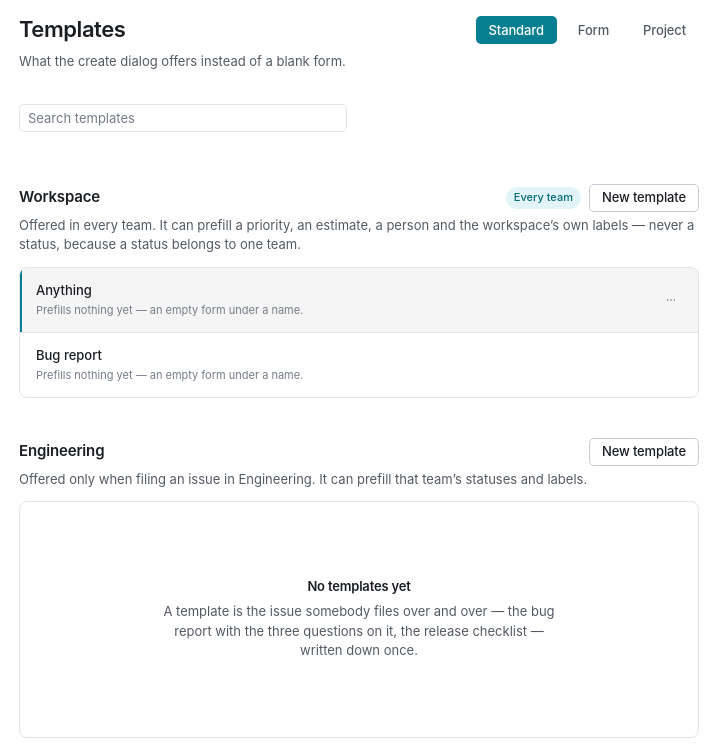
Templates on the settings frame › narrows the rows to what the search box matches
Type "bug" into the search field labelled "Search templates" at (183, 118), box [28,104,338,130]
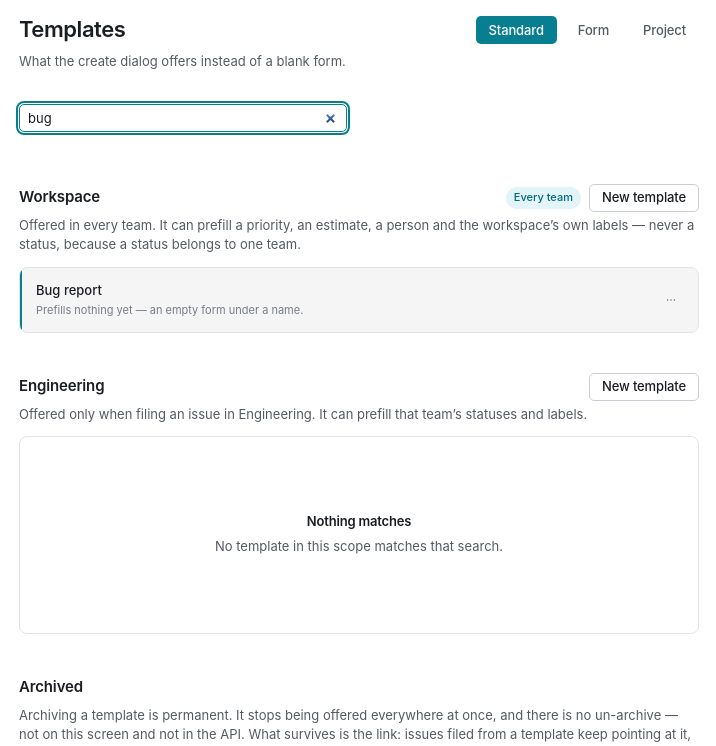
Expected: the button named "Options for Bug report" is shown, [660,288,682,310]
Result: the text "Nothing matches" is shown at [307,513,411,529]
